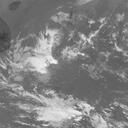cyclone: (21, 35, 61, 74)
